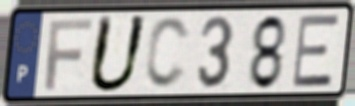3: (195, 13, 238, 92)
8: (247, 10, 289, 94)
C: (142, 15, 193, 93)
E: (290, 12, 341, 90)
F: (43, 17, 94, 93)
U: (85, 13, 151, 95)
